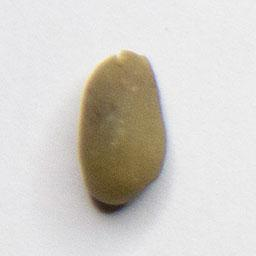peaberry: (73, 46, 173, 210)
